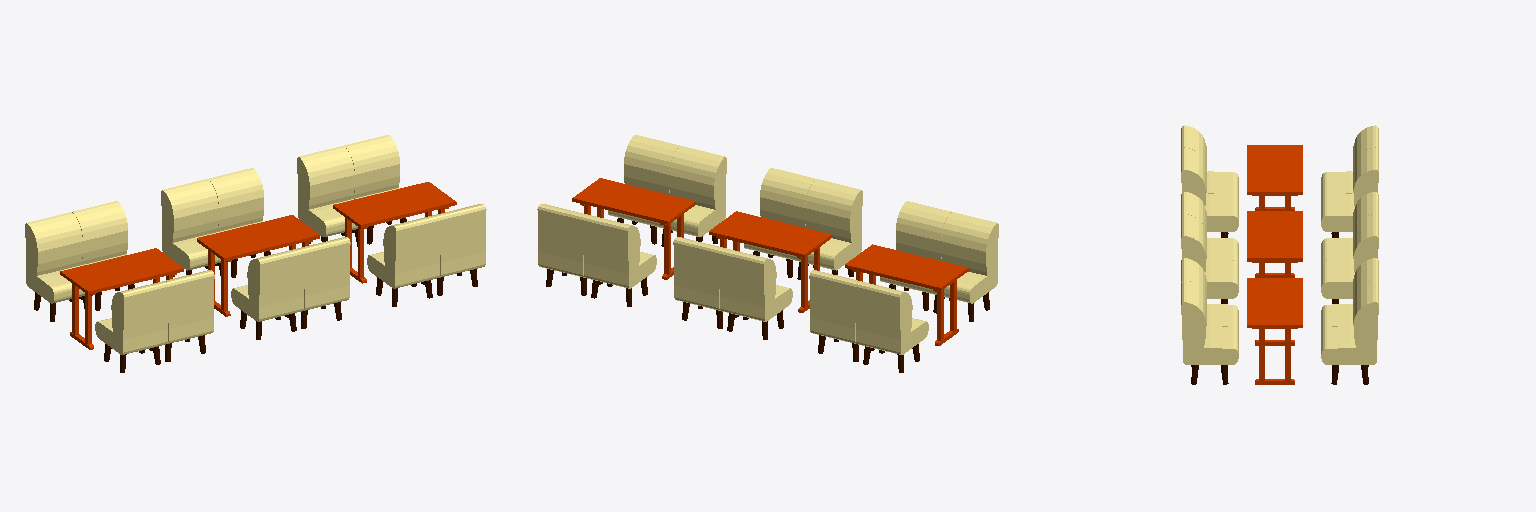
The model's file is texturetest11.obj.
The picture shows the model from 3 angles: view 1: azimuth 30°, elevation 25°; view 2: azimuth 150°, elevation 25°; view 3: azimuth 270°, elevation 25°; orthographic projection.
Parts seen in each view (by area): view 1: group14 Table_and_Sofa2 group12 pCube1 group12, Table_and_Sofa2 group13 group12 pCube1 group12, Table_and_Sofa2 group10 group12 pCube1 group12, group11 group14 Table_and_Sofa2 pCube1 group12, Table_and_Sofa2 group11 group13 pCube1 group12, Table_and_Sofa2 group11 group10 _Sofa3:pCube1 _Sofa3:group2, group14 Table_and_Sofa2 _Table1:group1 _Table1:pCube1, Table_and_Sofa2 group10 group56 pCube1, Table_and_Sofa2 group13 group1 pCube1, Table_and_Sofa2 pCube1 group2 group11 group10, Table_and_Sofa2 pCube1 group2 group11 group13, pCube1 group2 group11 group14 Table_and_Sofa2 (+3 smaller); view 2: Table_and_Sofa2 group11 group13 pCube1 group12, group11 group14 Table_and_Sofa2 pCube1 group12, Table_and_Sofa2 group11 group10 _Sofa3:pCube1 _Sofa3:group2, group14 Table_and_Sofa2 group12 pCube1 group12, Table_and_Sofa2 group13 group12 pCube1 group12, Table_and_Sofa2 group10 group12 pCube1 group12, Table_and_Sofa2 group10 group56 pCube1, group14 Table_and_Sofa2 _Table1:group1 _Table1:pCube1, Table_and_Sofa2 group13 group1 pCube1, Table_and_Sofa2 group10 pCube1 group2 group12, Table_and_Sofa2 group13 pCube1 group2 group12, group14 Table_and_Sofa2 pCube1 group2 group12 (+3 smaller); view 3: pCube1 group2 group11 group14 Table_and_Sofa2, group14 Table_and_Sofa2 pCube1 group2 group12, Table_and_Sofa2 group13 group1 pCube1, group14 Table_and_Sofa2 _Table1:group1 _Table1:pCube1, Table_and_Sofa2 group10 group56 pCube1, Table_and_Sofa2 pCube1 group2 group11 group13, Table_and_Sofa2 group13 pCube1 group2 group12, Table_and_Sofa2 pCube1 group2 group11 group10, Table_and_Sofa2 group10 pCube1 group2 group12, Table_and_Sofa2 group11 group10 _Sofa3:pCube1 _Sofa3:group2, Table_and_Sofa2 group10 group12 pCube1 group12, group11 group14 Table_and_Sofa2 pCube1 group12 (+3 smaller).
Part boxes in pixels (x1,y1,x2,y2): group14 Table_and_Sofa2 group12 pCube1 group12: (297,146,357,236); Table_and_Sofa2 group13 group12 pCube1 group12: (161,179,220,270); Table_and_Sofa2 group10 group12 pCube1 group12: (25,212,84,303); group11 group14 Table_and_Sofa2 pCube1 group12: (367,215,440,288); Table_and_Sofa2 group11 group13 pCube1 group12: (231,248,304,321); Table_and_Sofa2 group11 group10 _Sofa3:pCube1 _Sofa3:group2: (95,281,168,354); group14 Table_and_Sofa2 _Table1:group1 _Table1:pCube1: (60,248,183,294); Table_and_Sofa2 group10 group56 pCube1: (333,182,456,228); Table_and_Sofa2 group13 group1 pCube1: (197,215,319,261); Table_and_Sofa2 pCube1 group2 group11 group10: (166,270,214,343); Table_and_Sofa2 pCube1 group2 group11 group13: (301,237,350,310); pCube1 group2 group11 group14 Table_and_Sofa2: (436,204,486,277); Table_and_Sofa2 group11 group13 pCube1 group12: (789,179,862,270); group11 group14 Table_and_Sofa2 pCube1 group12: (653,146,726,236); Table_and_Sofa2 group11 group10 _Sofa3:pCube1 _Sofa3:group2: (925,212,998,303); group14 Table_and_Sofa2 group12 pCube1 group12: (583,215,656,288); Table_and_Sofa2 group13 group12 pCube1 group12: (719,248,792,321); Table_and_Sofa2 group10 group12 pCube1 group12: (855,281,928,354); Table_and_Sofa2 group10 group56 pCube1: (572,178,695,224); group14 Table_and_Sofa2 _Table1:group1 _Table1:pCube1: (845,244,968,290); Table_and_Sofa2 group13 group1 pCube1: (709,211,831,257); Table_and_Sofa2 group10 pCube1 group2 group12: (809,270,857,343); Table_and_Sofa2 group13 pCube1 group2 group12: (673,237,722,310); group14 Table_and_Sofa2 pCube1 group2 group12: (537,204,587,277); pCube1 group2 group11 group14 Table_and_Sofa2: (1181,280,1238,364); group14 Table_and_Sofa2 pCube1 group2 group12: (1321,280,1378,364); Table_and_Sofa2 group13 group1 pCube1: (1247,211,1302,261); group14 Table_and_Sofa2 _Table1:group1 _Table1:pCube1: (1247,145,1302,194); Table_and_Sofa2 group10 group56 pCube1: (1247,278,1302,327); Table_and_Sofa2 pCube1 group2 group11 group13: (1181,214,1238,298); Table_and_Sofa2 group13 pCube1 group2 group12: (1321,214,1378,298); Table_and_Sofa2 pCube1 group2 group11 group10: (1181,148,1238,231); Table_and_Sofa2 group10 pCube1 group2 group12: (1321,148,1378,231); Table_and_Sofa2 group11 group10 _Sofa3:pCube1 _Sofa3:group2: (1181,125,1238,198); Table_and_Sofa2 group10 group12 pCube1 group12: (1321,125,1378,198); group11 group14 Table_and_Sofa2 pCube1 group12: (1181,258,1238,331).
Size of the model in its own units: 461 by 101 by 214.